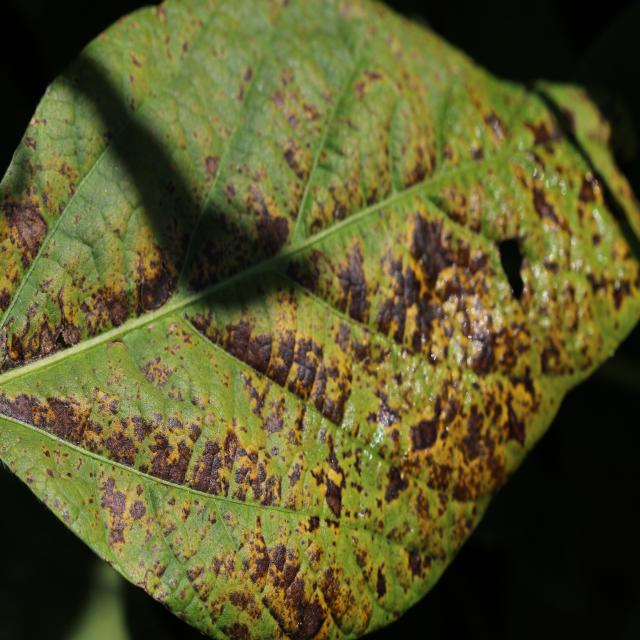Bacterial_Blight: (418, 218, 522, 376), (522, 247, 609, 374), (521, 147, 611, 265), (373, 221, 451, 351), (152, 490, 214, 579), (387, 83, 435, 192), (0, 302, 76, 369), (587, 246, 637, 320), (327, 244, 368, 322), (2, 198, 49, 265), (265, 299, 300, 387), (147, 426, 193, 487), (415, 216, 455, 283), (230, 445, 271, 507), (192, 433, 232, 496), (81, 285, 128, 338), (43, 395, 91, 446), (222, 314, 262, 372), (100, 413, 140, 466), (457, 410, 492, 470), (253, 202, 291, 256), (449, 455, 492, 502), (137, 259, 174, 313), (57, 277, 88, 341), (240, 527, 272, 588), (341, 236, 377, 290), (139, 353, 181, 394), (290, 336, 318, 395), (531, 185, 563, 226), (98, 482, 129, 522), (409, 415, 439, 452), (298, 600, 325, 639), (282, 573, 307, 615), (282, 141, 309, 177), (384, 465, 409, 503), (323, 474, 343, 520), (1, 253, 23, 294), (9, 393, 36, 426), (525, 117, 555, 146), (426, 461, 453, 493), (375, 399, 401, 429), (485, 112, 506, 142), (269, 542, 288, 575), (579, 175, 601, 203), (7, 332, 26, 363), (265, 411, 283, 436), (128, 499, 147, 522), (287, 461, 302, 489), (375, 566, 387, 600), (408, 551, 423, 576), (204, 155, 219, 179), (109, 525, 126, 546), (306, 514, 320, 534), (130, 51, 144, 68), (41, 191, 52, 209), (24, 135, 37, 150), (243, 66, 253, 82), (45, 467, 55, 478), (73, 214, 81, 226), (62, 510, 70, 522), (53, 499, 61, 510), (43, 448, 51, 458)
Soybean: (0, 0, 640, 640)
